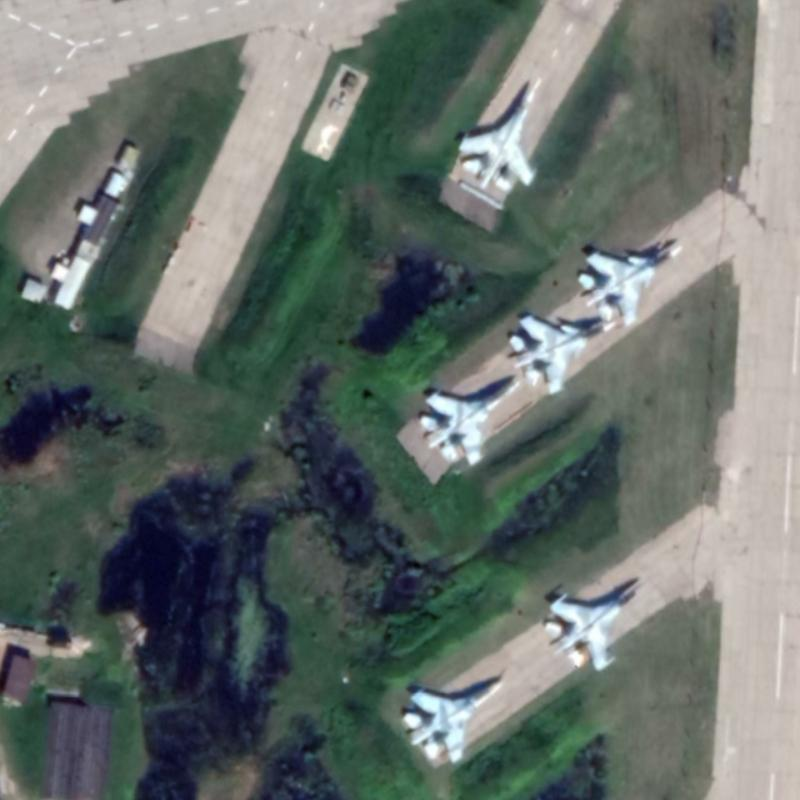A1: (401, 673, 506, 766), (417, 376, 523, 468), (542, 580, 644, 672), (456, 84, 539, 191)
A19: (506, 311, 620, 397), (575, 242, 684, 328)
